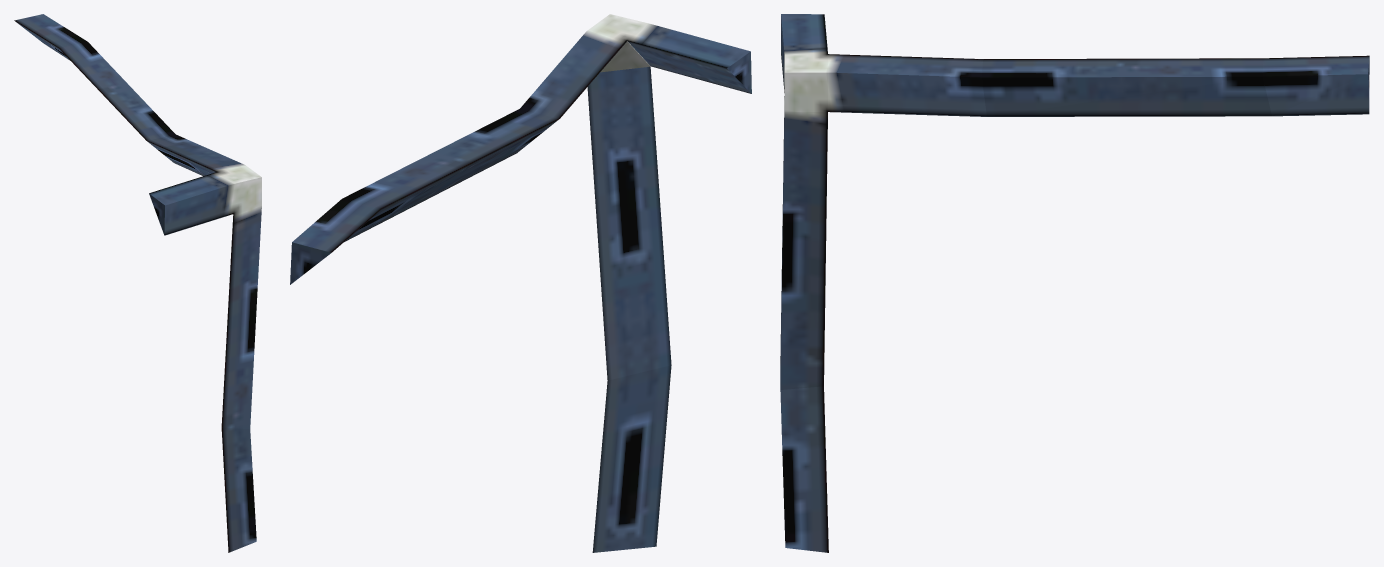
File: metal_box_broken1.obj
The picture shows the model from 3 angles, left to right: view 1: azimuth 30°, elevation 25°; view 2: azimuth 150°, elevation 25°; view 3: azimuth 270°, elevation 25°; orthographic projection. The views are drawn at different scales.
Visible parts, largest first — view 1: Object_1; view 2: Object_1; view 3: Object_1.
Part boxes in pixels (x1=…): Object_1: x1=14, y1=14, x2=261, y2=552; Object_1: x1=290, y1=14, x2=751, y2=552; Object_1: x1=780, y1=14, x2=1369, y2=552.
Bounding box in the file's own units: 4.65 × 15.36 × 16.91.
